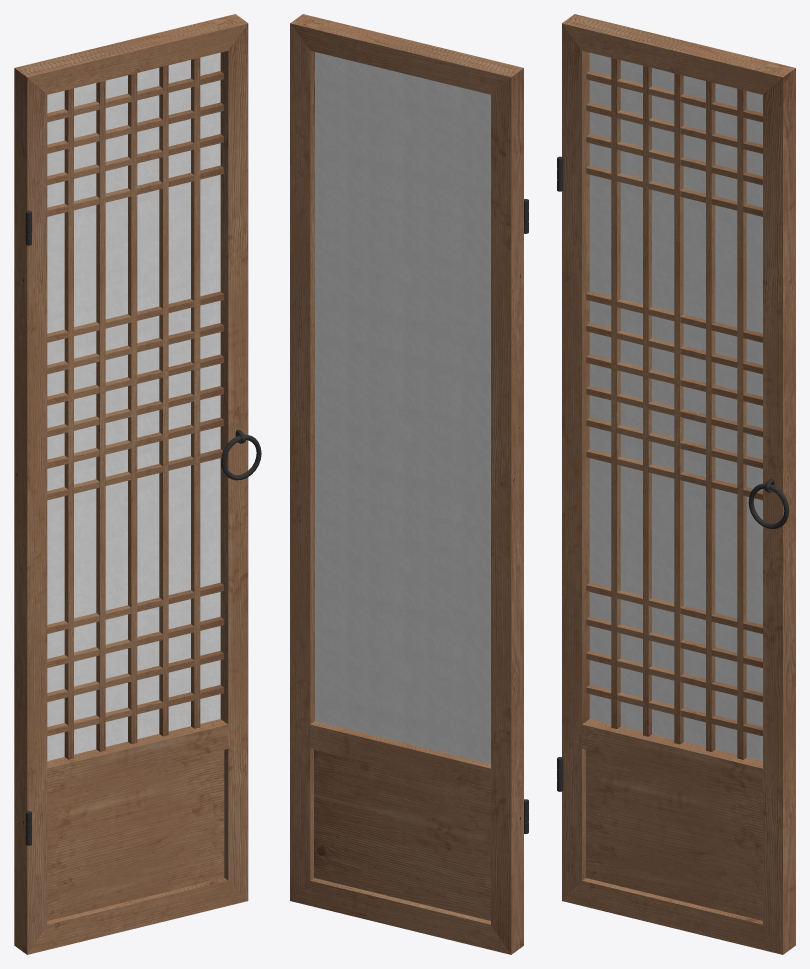
Rendered from SM_Yeonkyung_Sarangchae_Win_D_001.fbx.
The picture shows the model from 3 angles, left to right: view 1: azimuth 30°, elevation 25°; view 2: azimuth 150°, elevation 25°; view 3: azimuth 330°, elevation 25°; orthographic projection.
Parts seen in each view (by area): view 1: SM_Yeonkyung_Sarangchae_Win_D_001; view 2: SM_Yeonkyung_Sarangchae_Win_D_001; view 3: SM_Yeonkyung_Sarangchae_Win_D_001.
Boxes of the visible parts, box(x1,y1,x2,y2) form: SM_Yeonkyung_Sarangchae_Win_D_001: box(14, 14, 261, 954); SM_Yeonkyung_Sarangchae_Win_D_001: box(290, 14, 528, 954); SM_Yeonkyung_Sarangchae_Win_D_001: box(557, 14, 795, 954).
Size of the model in its own units: 52.48 by 189 by 7.41.
